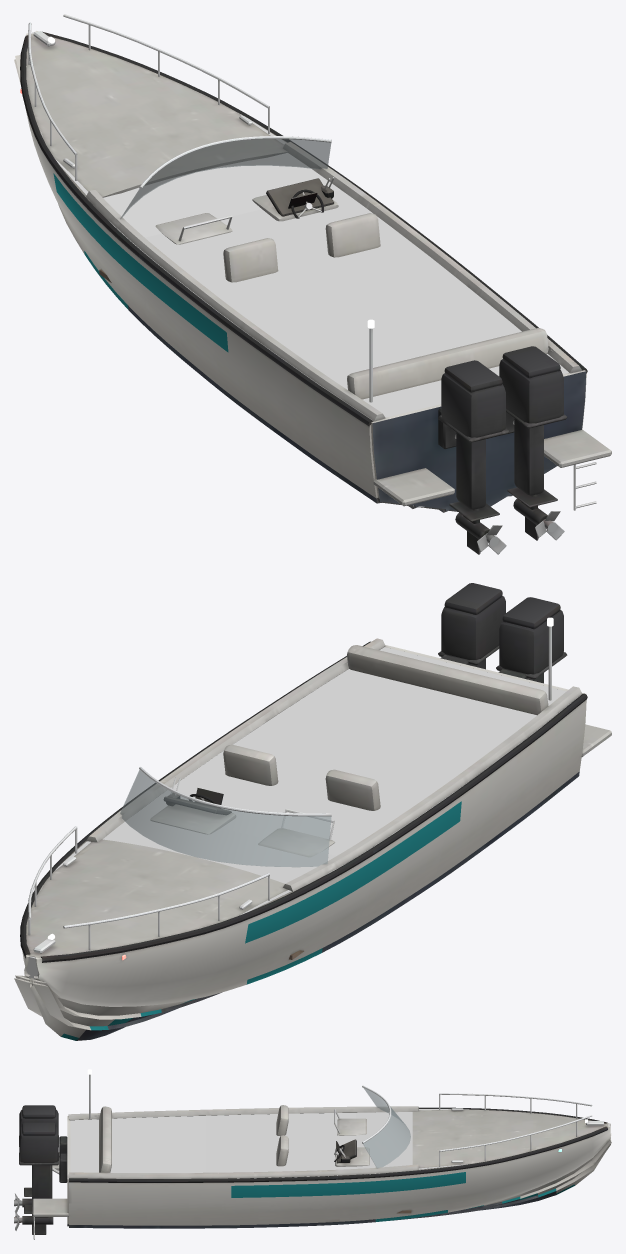
File: speedboat.glb
3 views of the same model, one above another, from view 1: azimuth 30°, elevation 25°; view 2: azimuth 150°, elevation 25°; view 3: azimuth 270°, elevation 25° (orthographic). The views are drawn at different scales.
Visible parts, largest first — view 1: lod0, col_hull_hull, engine_l, engine_r; view 2: lod0, col_hull_hull, engine_l, engine_r; view 3: lod0, col_hull_hull, engine_r, engine_l.
Part boxes in pixels (x1,y1,x2,y2): lod0: [14, 14, 611, 512]; col_hull_hull: [31, 32, 568, 507]; engine_l: [438, 360, 509, 554]; engine_r: [499, 346, 567, 540]; lod0: [14, 617, 611, 1040]; col_hull_hull: [26, 647, 580, 1014]; engine_l: [496, 597, 567, 683]; engine_r: [438, 583, 505, 669]; lod0: [32, 1069, 611, 1239]; col_hull_hull: [70, 1109, 609, 1178]; engine_r: [19, 1122, 67, 1234]; engine_l: [19, 1105, 67, 1215].
Size of what is drawn, in the model's own units: 2.79 by 2.39 by 10.01.
8 materials, 7 textured.
